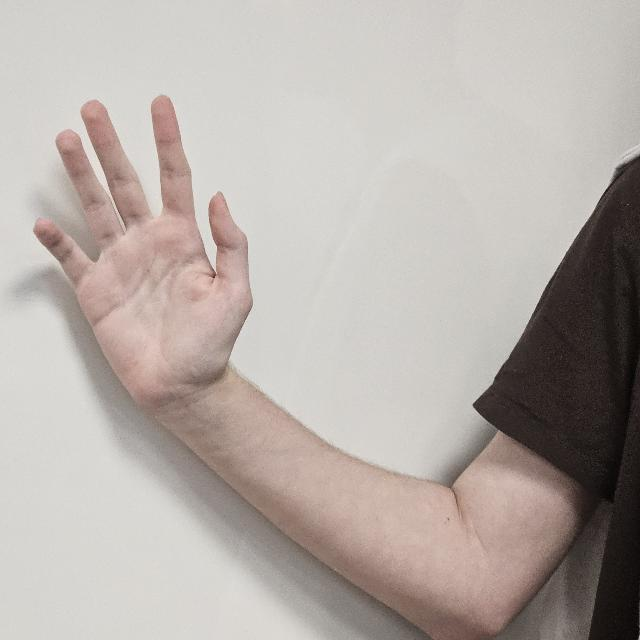X: (34, 91, 252, 399)
